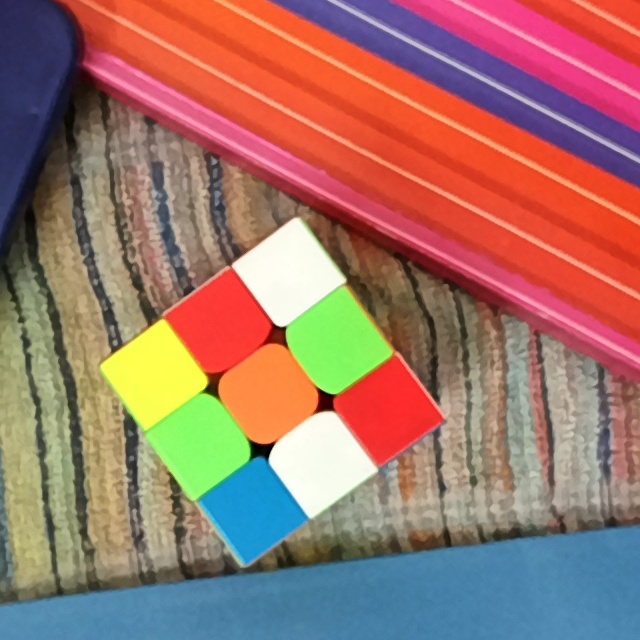tile: (193, 295, 249, 354), (307, 315, 365, 371), (223, 484, 282, 538), (360, 384, 415, 440), (239, 369, 295, 422), (125, 347, 182, 399), (173, 418, 228, 470), (294, 436, 351, 485), (263, 247, 317, 295)
